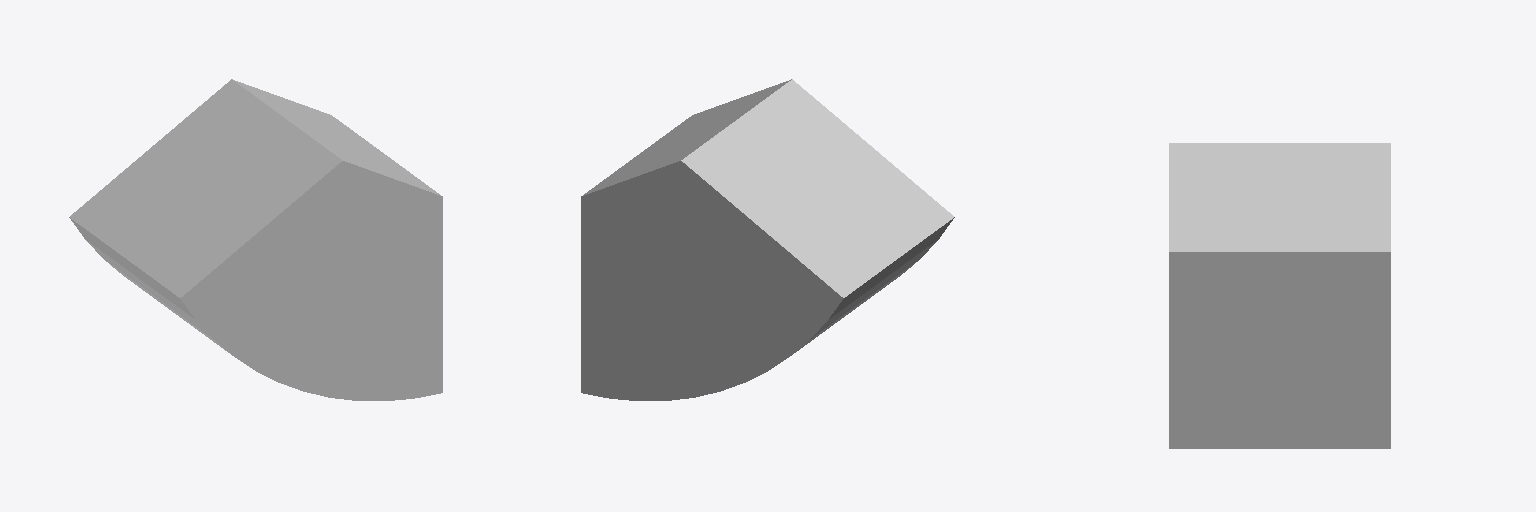
File: round_hexagon_hole_1.obj
The picture shows the model from 3 angles: view 1: azimuth 30°, elevation 25°; view 2: azimuth 150°, elevation 25°; view 3: azimuth 270°, elevation 25°; orthographic projection.
Visible parts, largest first — view 1: Body122; view 2: Body122; view 3: Body122.
Boxes of the visible parts, x1=… form: Body122: x1=69, y1=79, x2=442, y2=400; Body122: x1=581, y1=79, x2=954, y2=400; Body122: x1=1169, y1=143, x2=1390, y2=448.
Size of the model in its own units: 0.0546 by 0.051 by 0.04.